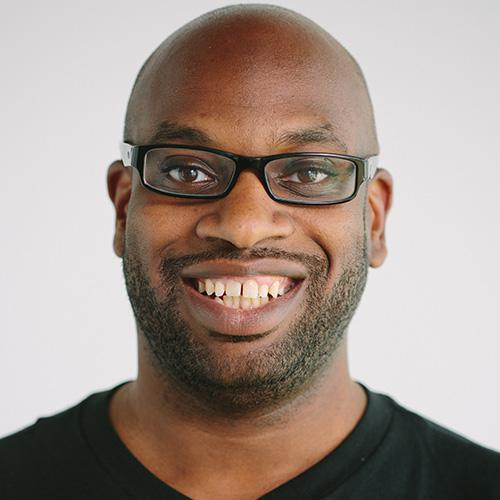Sober: (136, 60, 352, 343)
